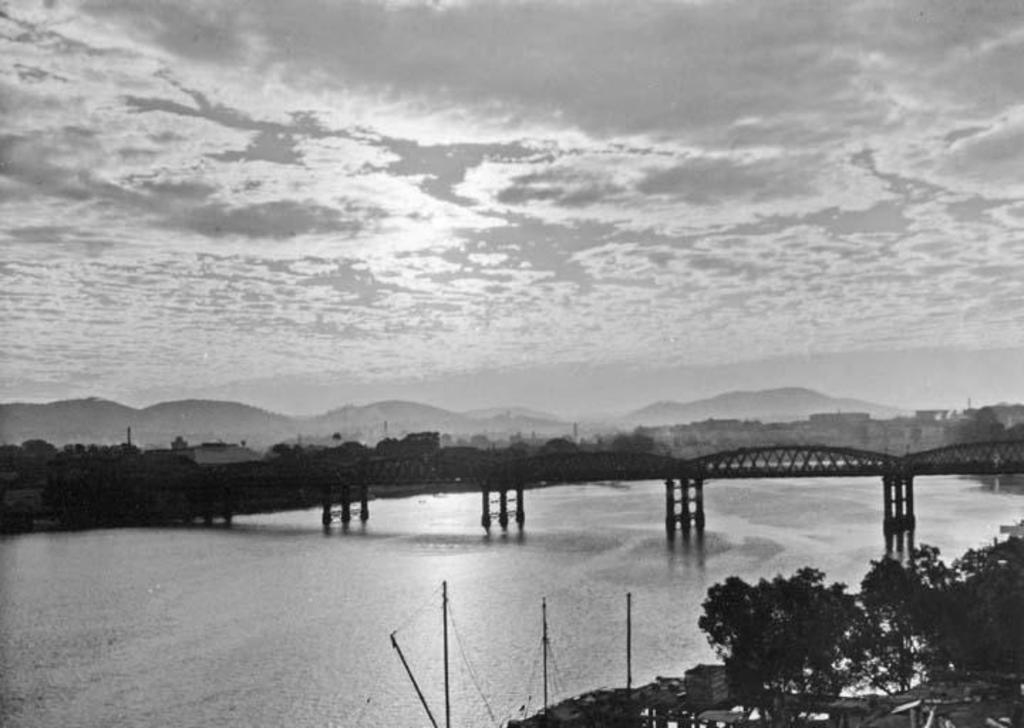Tree: (860, 538, 1022, 686), (701, 561, 857, 712)
